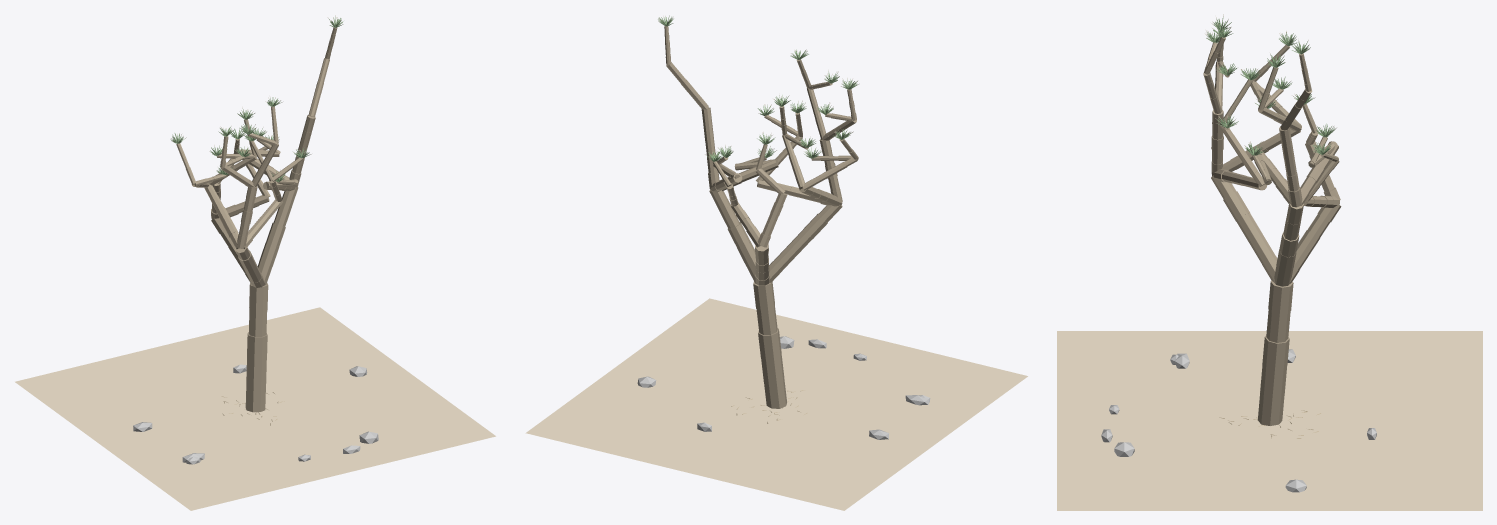
The picture shows the model from 3 angles, left to right: view 1: azimuth 30°, elevation 25°; view 2: azimuth 150°, elevation 25°; view 3: azimuth 270°, elevation 25°; orthographic projection. The views are drawn at different scales.
Parts seen in each view (by area): view 1: DesertGround, JoshuaTrunk_D0_2; view 2: DesertGround, JoshuaTrunk_D0_2; view 3: DesertGround, JoshuaTrunk_D0_2, JoshuaTrunk_D0_1, JoshuaTrunk_D0_4, JoshuaTrunk_D0_0, JoshuaTrunk_D0_3.
Part boxes in pixels (x1,y1,x2,y2): DesertGround: [15, 307, 495, 510]; JoshuaTrunk_D0_2: [247, 332, 267, 362]; DesertGround: [525, 298, 1027, 510]; JoshuaTrunk_D0_2: [758, 328, 781, 360]; DesertGround: [1057, 331, 1482, 510]; JoshuaTrunk_D0_2: [1262, 335, 1289, 371]; JoshuaTrunk_D0_1: [1260, 365, 1286, 399]; JoshuaTrunk_D0_4: [1268, 280, 1293, 315]; JoshuaTrunk_D0_0: [1257, 393, 1284, 425]; JoshuaTrunk_D0_3: [1266, 310, 1290, 342].
Bounding box in the file's own units: 12 × 13.72 × 12.
